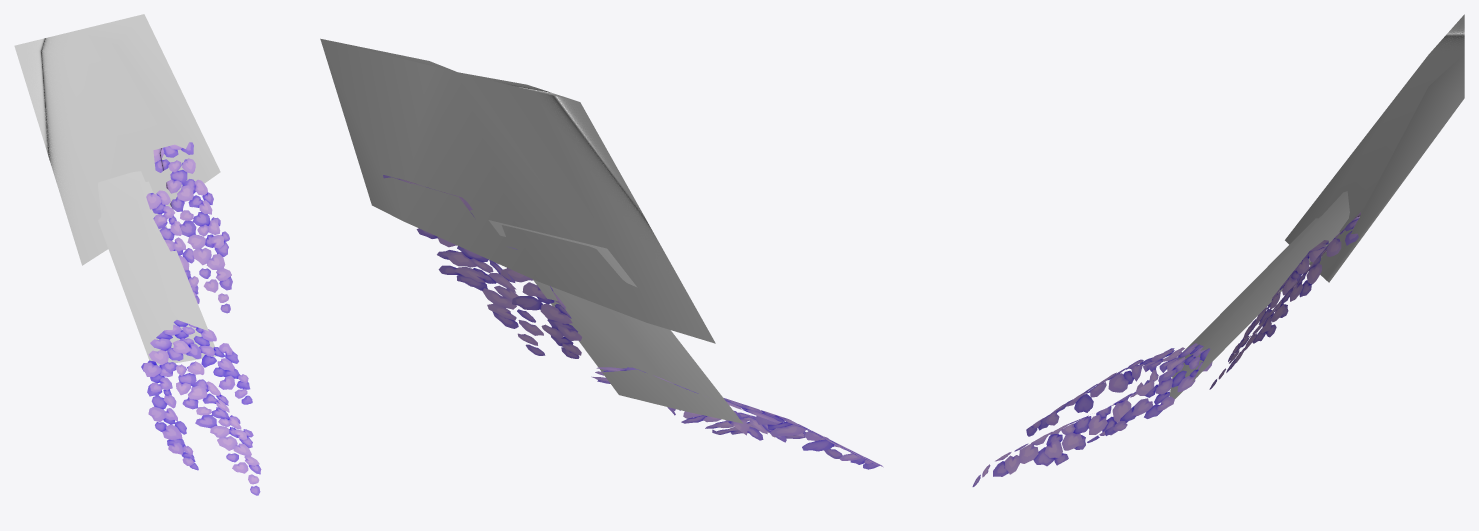
The model's file is SM_Env_Vines_Preset_Roof_Concave_04.fbx.
The picture shows the model from 3 angles, left to right: view 1: azimuth 30°, elevation 25°; view 2: azimuth 150°, elevation 25°; view 3: azimuth 270°, elevation 25°; orthographic projection. The views are drawn at different scales.
Parts seen in each view (by area): view 1: SM_Env_Vines_Preset_Roof_Concave_04; view 2: SM_Env_Vines_Preset_Roof_Concave_04; view 3: SM_Env_Vines_Preset_Roof_Concave_04.
Part boxes in pixels (x1,y1,x2,y2): SM_Env_Vines_Preset_Roof_Concave_04: (14,14,261,495); SM_Env_Vines_Preset_Roof_Concave_04: (320,38,883,469); SM_Env_Vines_Preset_Roof_Concave_04: (972,14,1464,486).
Size of the model in its own units: 96.5 by 189 by 192.
